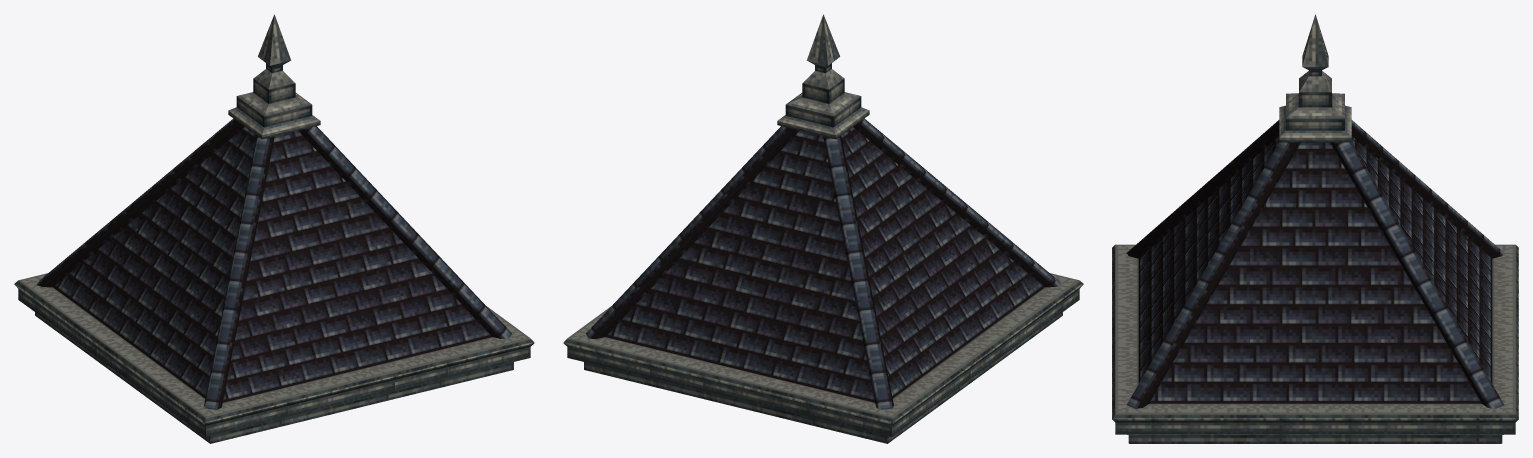
File: EnvBdgMD_Castle_Rain_A_Roof_C.FBX
3 views of the same model, side by side, from view 1: azimuth 30°, elevation 25°; view 2: azimuth 150°, elevation 25°; view 3: azimuth 270°, elevation 25° (orthographic). The views are drawn at different scales.
Parts seen in each view (by area): view 1: EnvBdgMD_Castle_Rain_A_Roof_C; view 2: EnvBdgMD_Castle_Rain_A_Roof_C; view 3: EnvBdgMD_Castle_Rain_A_Roof_C.
Boxes of the visible parts, bbox=[...] form: EnvBdgMD_Castle_Rain_A_Roof_C: bbox=[14, 14, 534, 443]; EnvBdgMD_Castle_Rain_A_Roof_C: bbox=[563, 14, 1083, 443]; EnvBdgMD_Castle_Rain_A_Roof_C: bbox=[1112, 14, 1518, 443].
Bounding box in the file's own units: 620 × 595 × 620.
